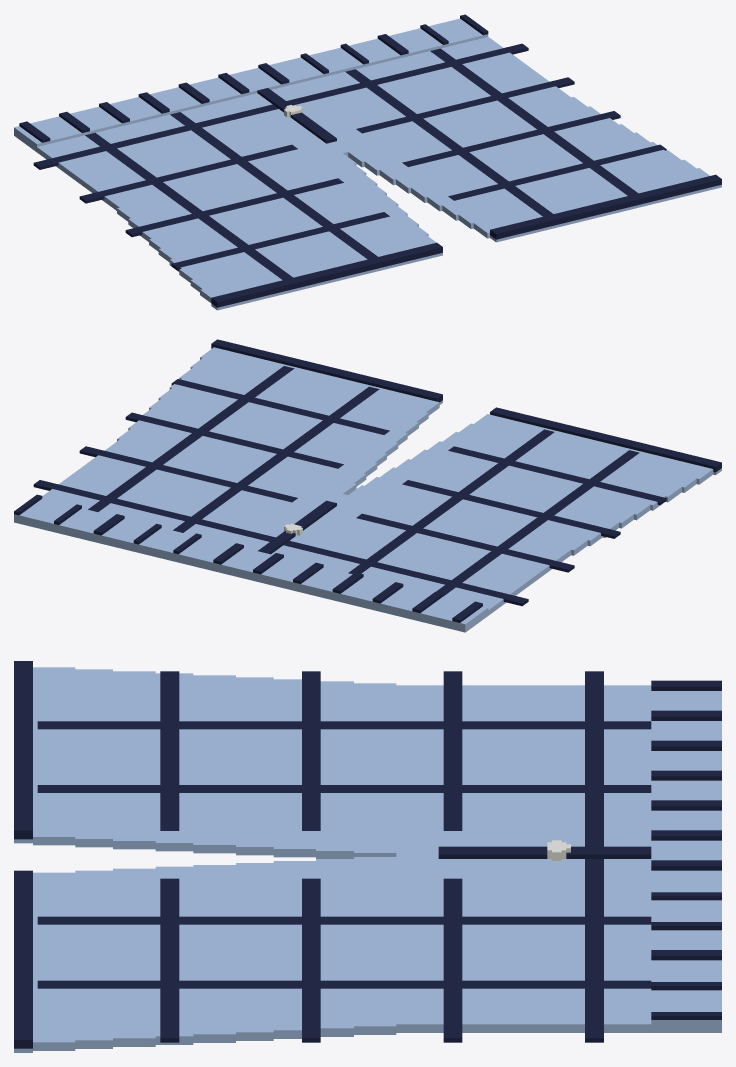
File: boxer_shorts.glb
3 views of the same model, one above another, from view 1: azimuth 30°, elevation 25°; view 2: azimuth 150°, elevation 25°; view 3: azimuth 270°, elevation 25° (orthographic). The views are drawn at different scales.
Parts seen in each view (by area): view 1: boxer_shorts:compound; view 2: boxer_shorts:compound; view 3: boxer_shorts:compound.
Boxes of the visible parts, bbox=[...] form: boxer_shorts:compound: bbox=[14, 14, 721, 310]; boxer_shorts:compound: bbox=[14, 339, 721, 632]; boxer_shorts:compound: bbox=[14, 661, 721, 1052].
Size of the model in its own units: 0.38 by 0.008 by 0.3.
